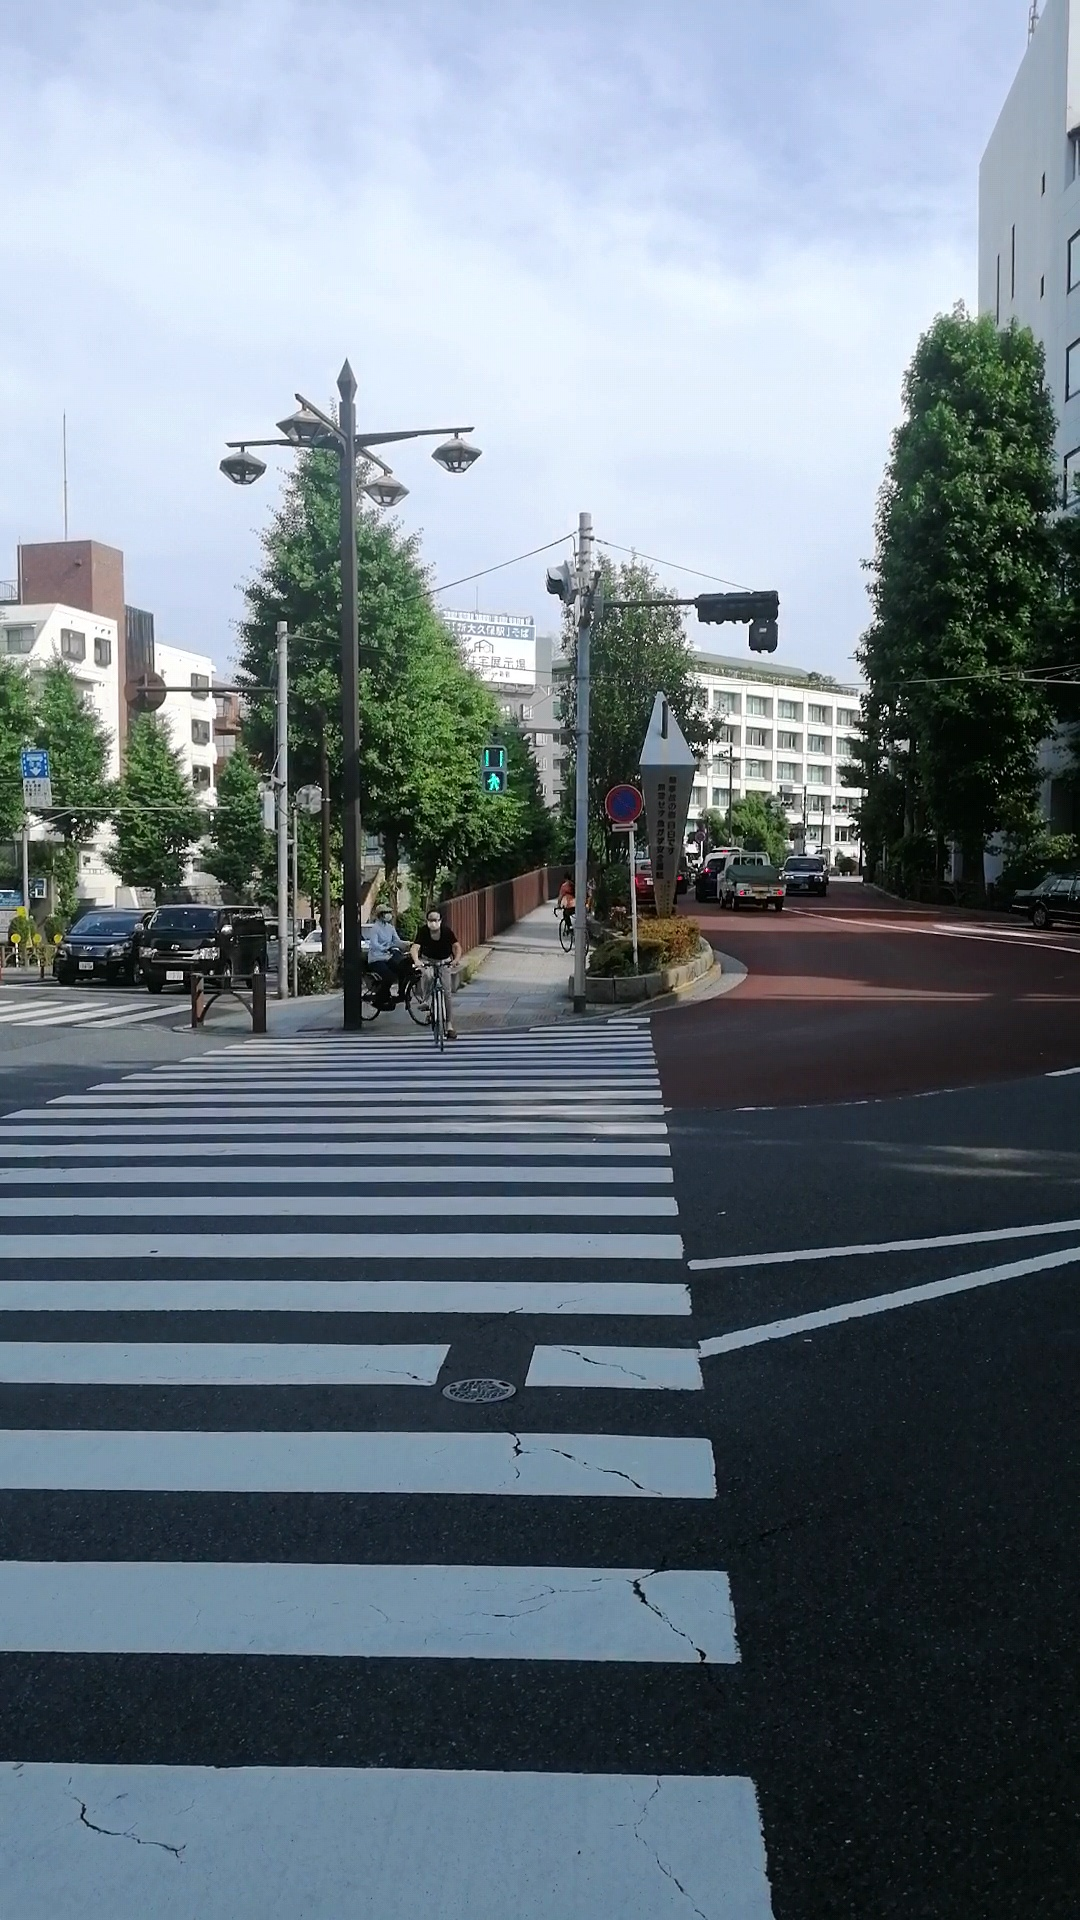green: (481, 744, 506, 793)
